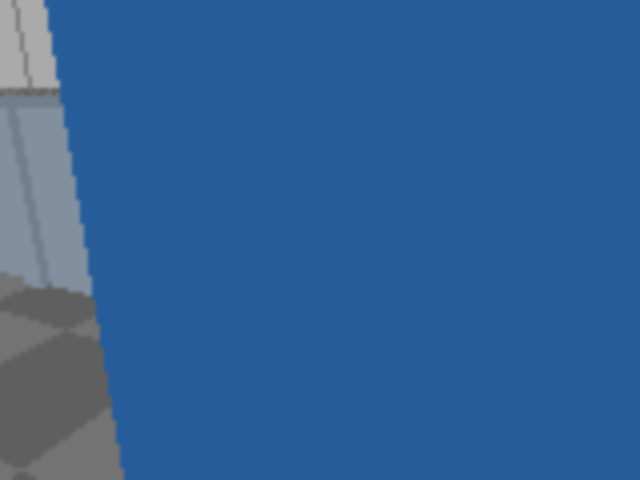goal_zone: (98, 144, 159, 151)
traffic_light: (404, 84, 441, 170)
